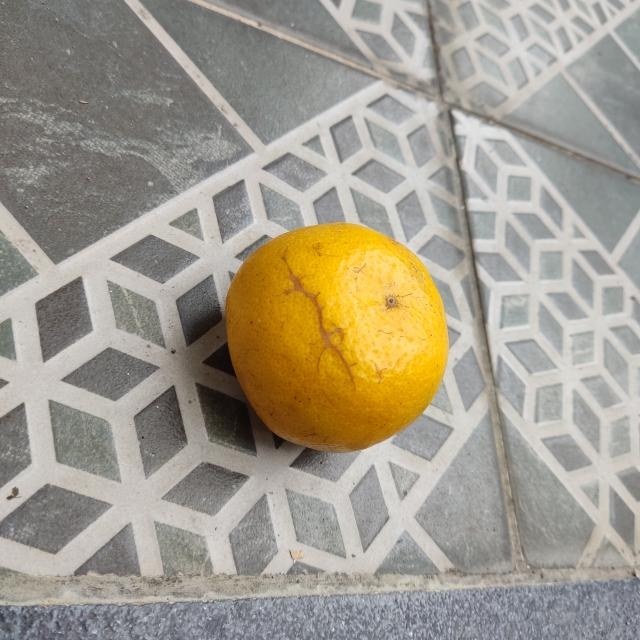orange: (222, 220, 454, 457)
